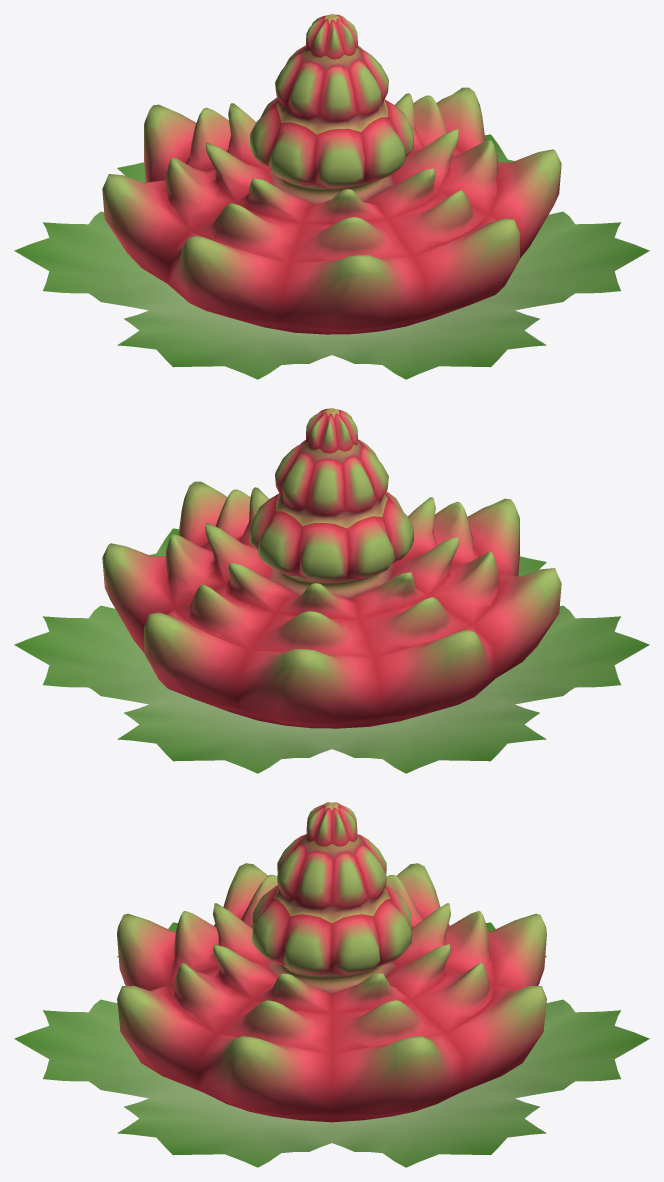
Rendered from LeafyFruit.fbx.
The picture shows the model from 3 angles, top to bottom: view 1: azimuth 30°, elevation 25°; view 2: azimuth 150°, elevation 25°; view 3: azimuth 270°, elevation 25°; orthographic projection.
Visible parts, largest first — view 1: LeafyFruit; view 2: LeafyFruit; view 3: LeafyFruit.
Part boxes in pixels (box(x1,y1,x2,y2)): LeafyFruit: box(14, 14, 649, 379); LeafyFruit: box(14, 408, 649, 773); LeafyFruit: box(14, 802, 649, 1167).
Size of the model in its own units: 3.95 by 2.12 by 4.32.
